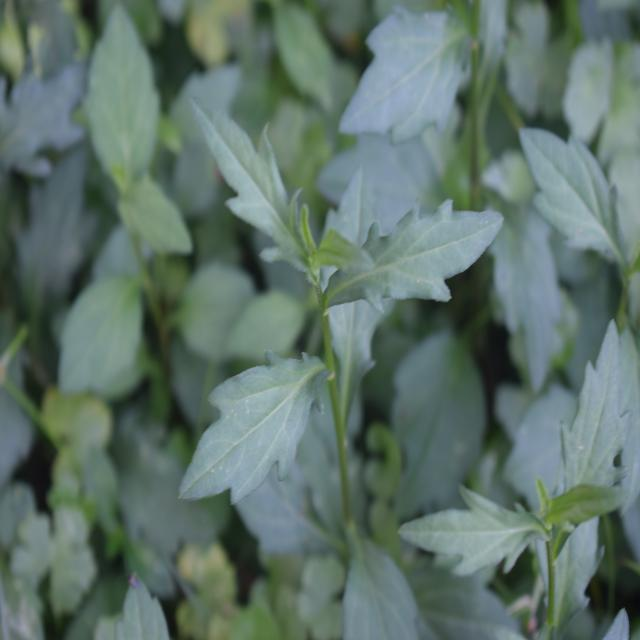Indian aster: (206, 82, 474, 621), (424, 288, 640, 630)
